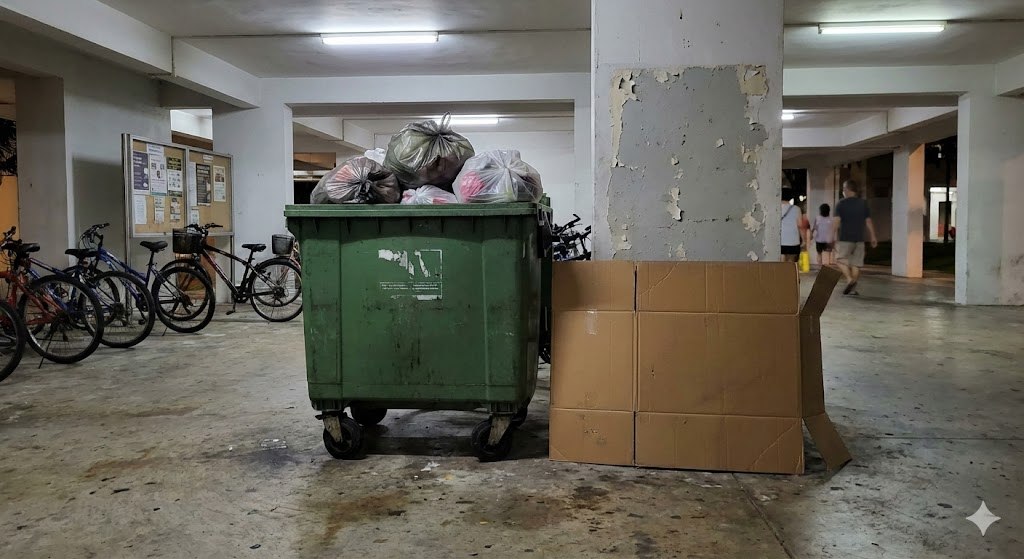bin_full: (285, 120, 550, 461)
bulk_waste: (549, 261, 849, 473)
vehicle: (81, 224, 215, 332), (160, 225, 301, 321), (0, 241, 103, 363), (30, 249, 154, 348)
